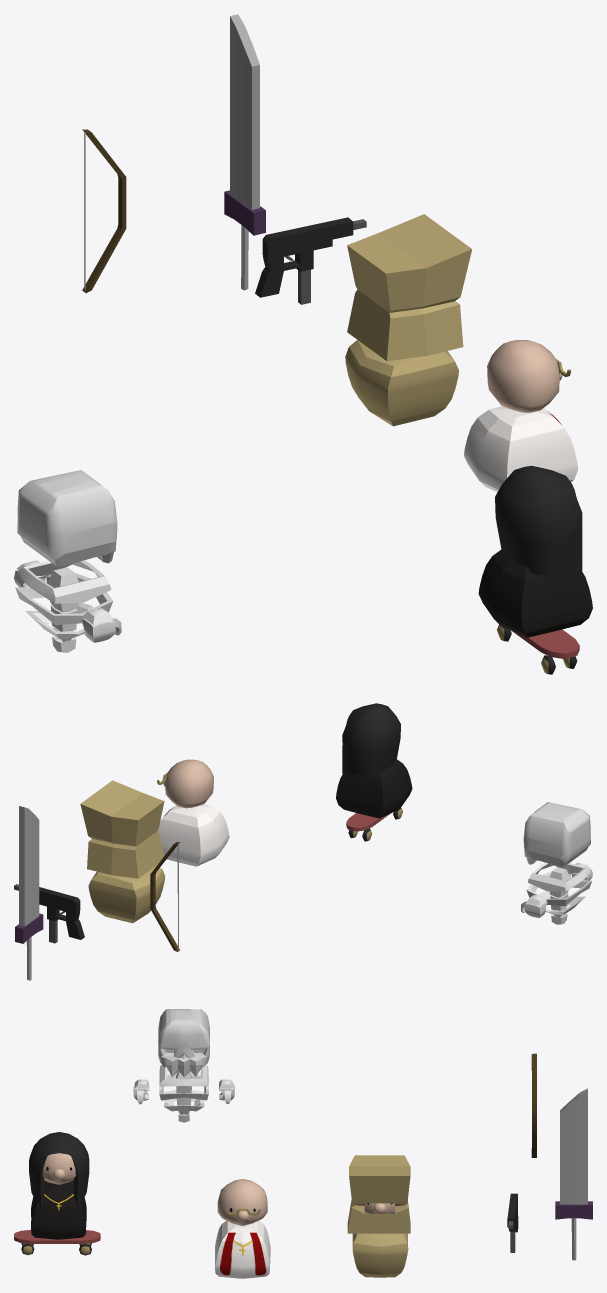
Rendered from Characters.fbx.
3 renders of one model, top to bottom at view 1: azimuth 30°, elevation 25°; view 2: azimuth 150°, elevation 25°; view 3: azimuth 270°, elevation 25°, orthographic. The views are drawn at different scales.
Visible parts, largest first — view 1: paladin_helmet1, skateBOARD1, head3, HEAD, sword, BODY_VF, bow, gun, hAND_1; view 2: paladin_helmet1, skateBOARD1, head3, HEAD, sword, BODY_VF, bow, gun, hAND_2; view 3: paladin_helmet1, skateBOARD1, head3, sword, HEAD, BODY_VF, gun, bow.
Part boxes in pixels (bbox=[...]): paladin_helmet1: bbox=[345, 214, 472, 426]; skateBOARD1: bbox=[478, 465, 592, 674]; head3: bbox=[464, 340, 578, 491]; HEAD: bbox=[17, 470, 117, 566]; sword: bbox=[224, 14, 265, 290]; BODY_VF: bbox=[15, 560, 113, 652]; bow: bbox=[255, 217, 366, 304]; gun: bbox=[82, 129, 126, 293]; hAND_1: bbox=[81, 608, 121, 642]; paladin_helmet1: bbox=[80, 780, 165, 923]; skateBOARD1: bbox=[336, 703, 412, 841]; head3: bbox=[157, 759, 229, 866]; HEAD: bbox=[523, 802, 590, 866]; sword: bbox=[15, 806, 43, 980]; BODY_VF: bbox=[526, 862, 591, 924]; bow: bbox=[14, 884, 84, 943]; gun: bbox=[150, 842, 179, 951]; hAND_2: bbox=[521, 894, 547, 917]; paladin_helmet1: bbox=[347, 1155, 410, 1277]; skateBOARD1: bbox=[14, 1132, 100, 1255]; head3: bbox=[215, 1179, 270, 1278]; sword: bbox=[555, 1088, 592, 1260]; HEAD: bbox=[158, 1009, 209, 1076]; BODY_VF: bbox=[159, 1064, 208, 1122]; gun: bbox=[531, 1053, 536, 1157]; bow: bbox=[507, 1193, 518, 1252].
Bounding box in the file's own units: 1184 × 591 × 1566.
14 materials, 3 textured.
